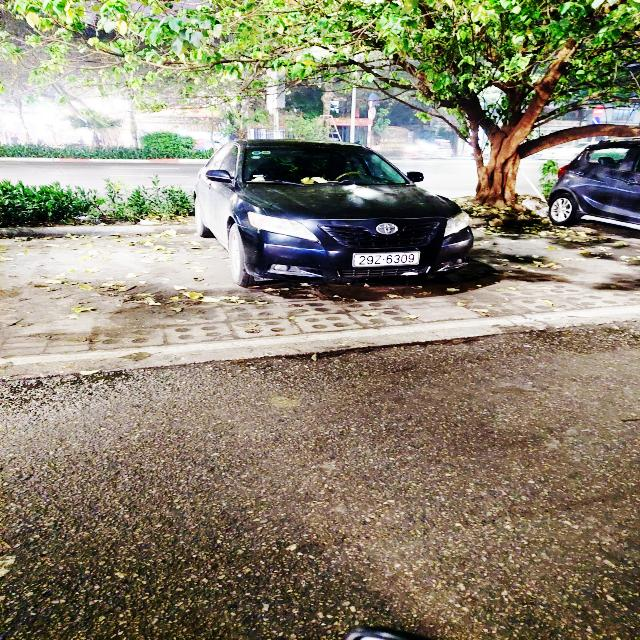license_plate: (352, 251, 423, 269)
